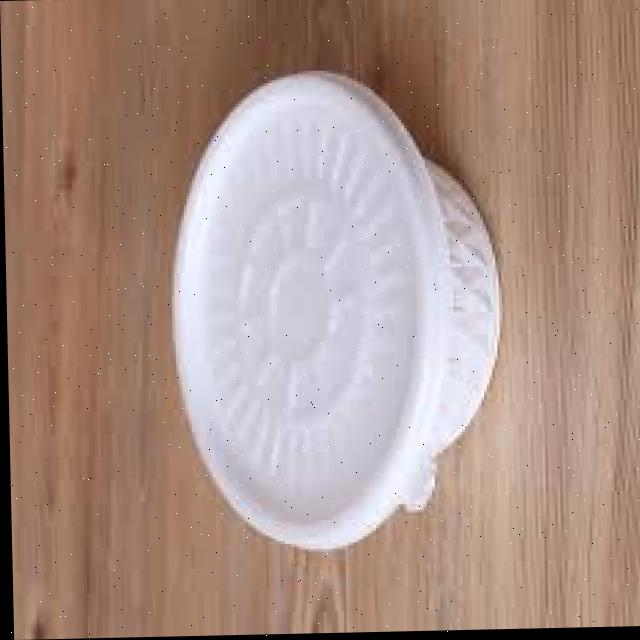disposable: (153, 54, 531, 555)
